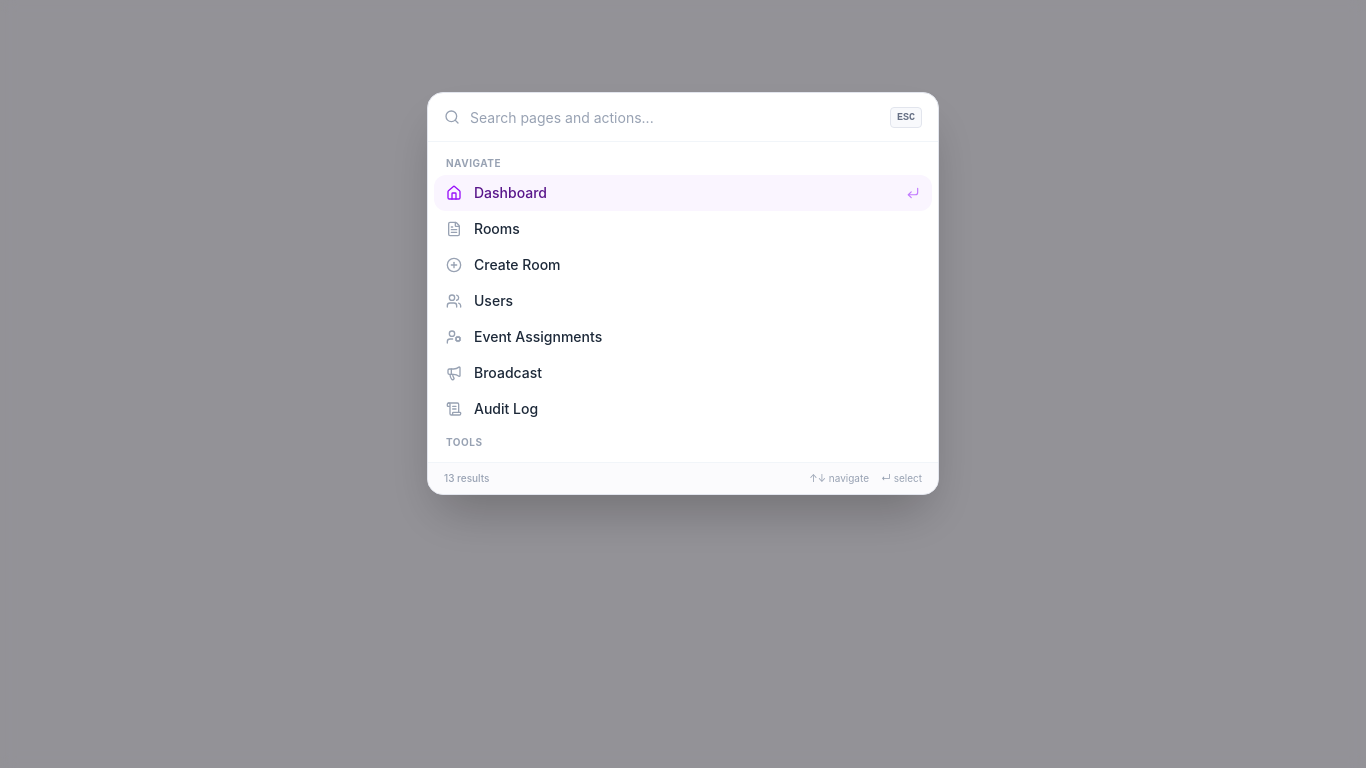
Test case: CommandPalette › keeps the selection in range when the results shrink
Press Arrowdown Arrowdown Arrowdown {ArrowD
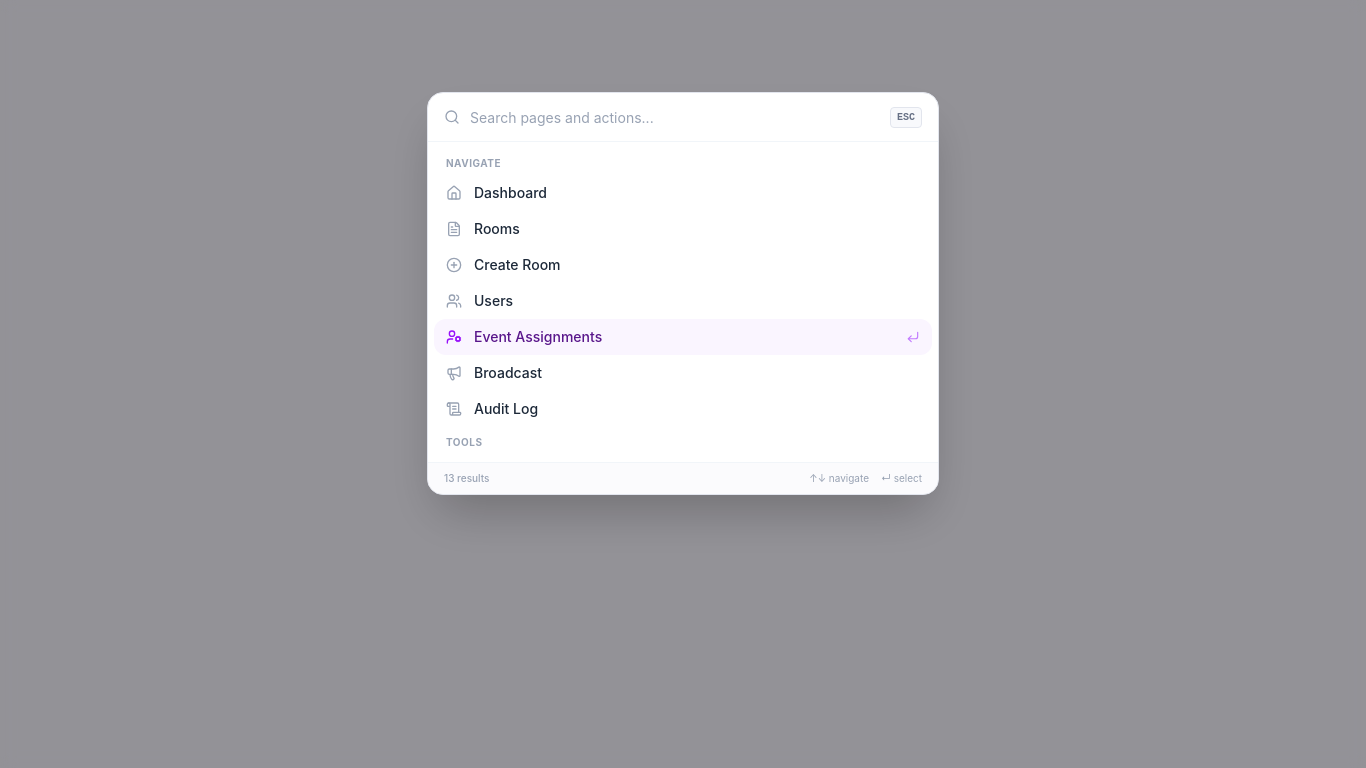
Type "audit" into the field at {"x": 675, "y": 117}, box [470,93,880,141]
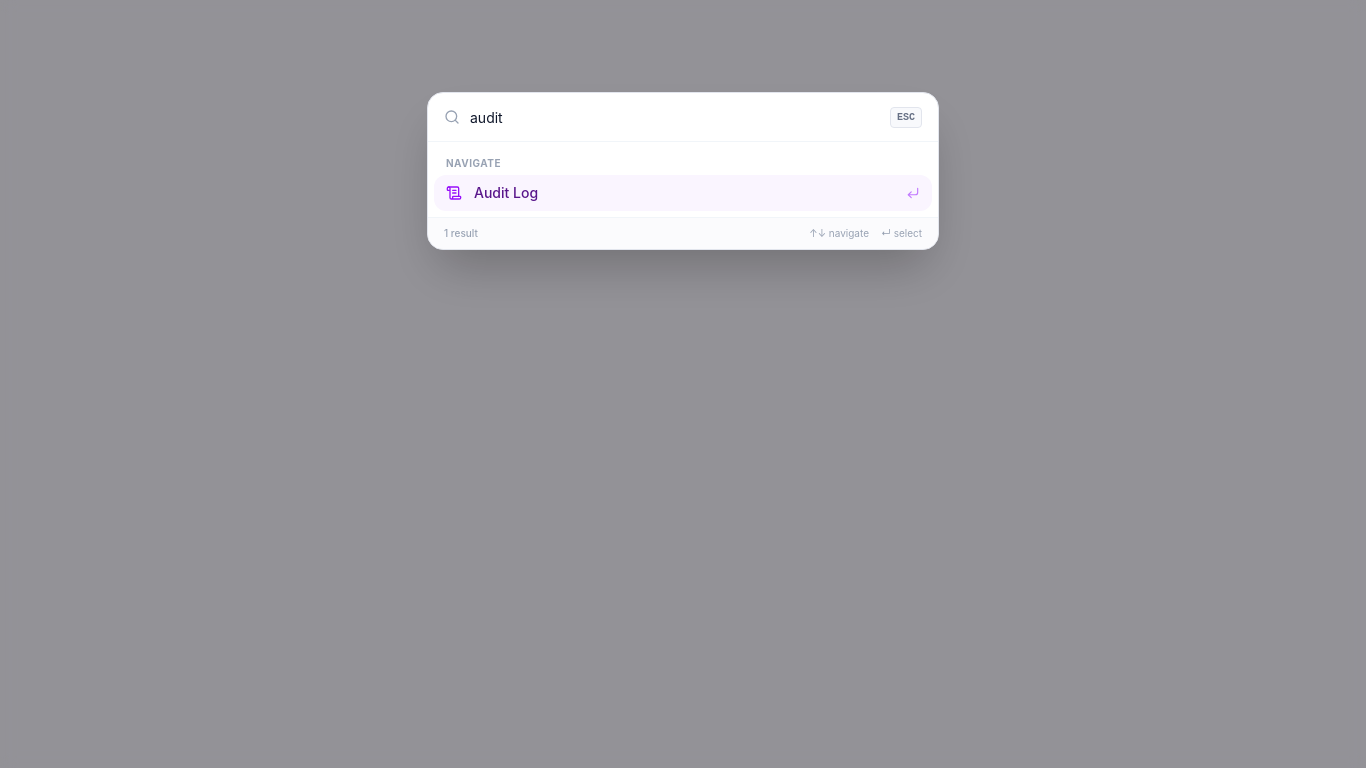
Expected: the number of options is 1, [434,175,932,211]
